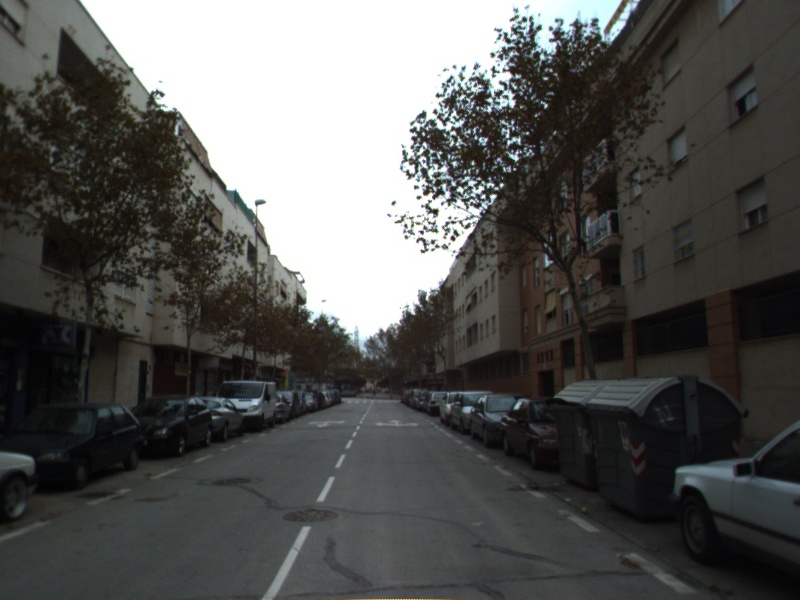STRAIGHT_LEFT_RIGHT: (373, 416, 421, 431)
